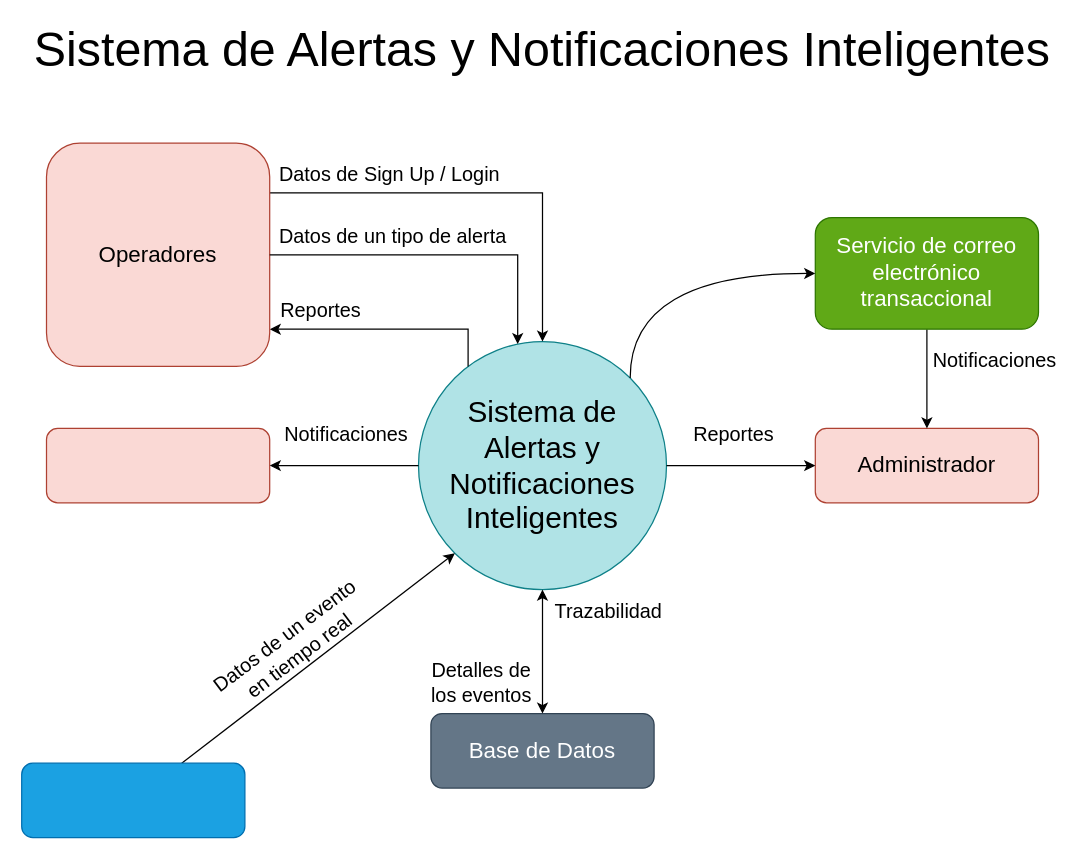
This 1085x859 diagram has some shape labels left out. Here are the shapes that lost their labels. From the top down, the centre of each, then its label:
At (157,465): "Conductores".
At (132,800): "Dispositivo GPS/IoT".
